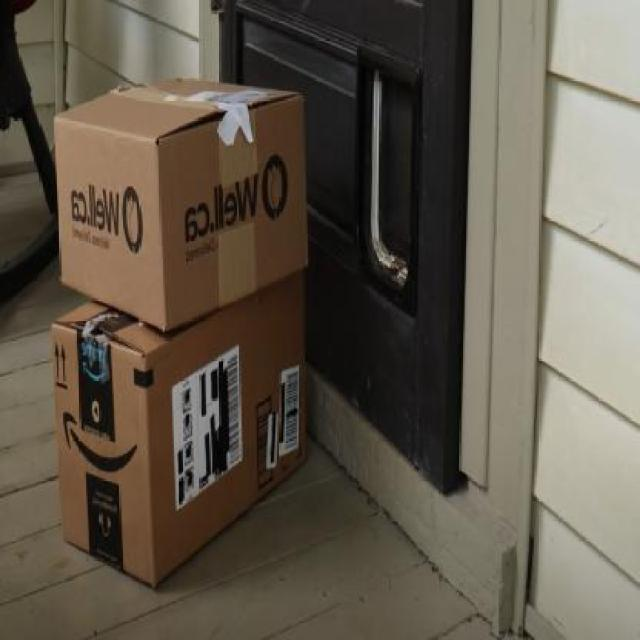cardboxes: (52, 265, 306, 597), (52, 73, 316, 333)
